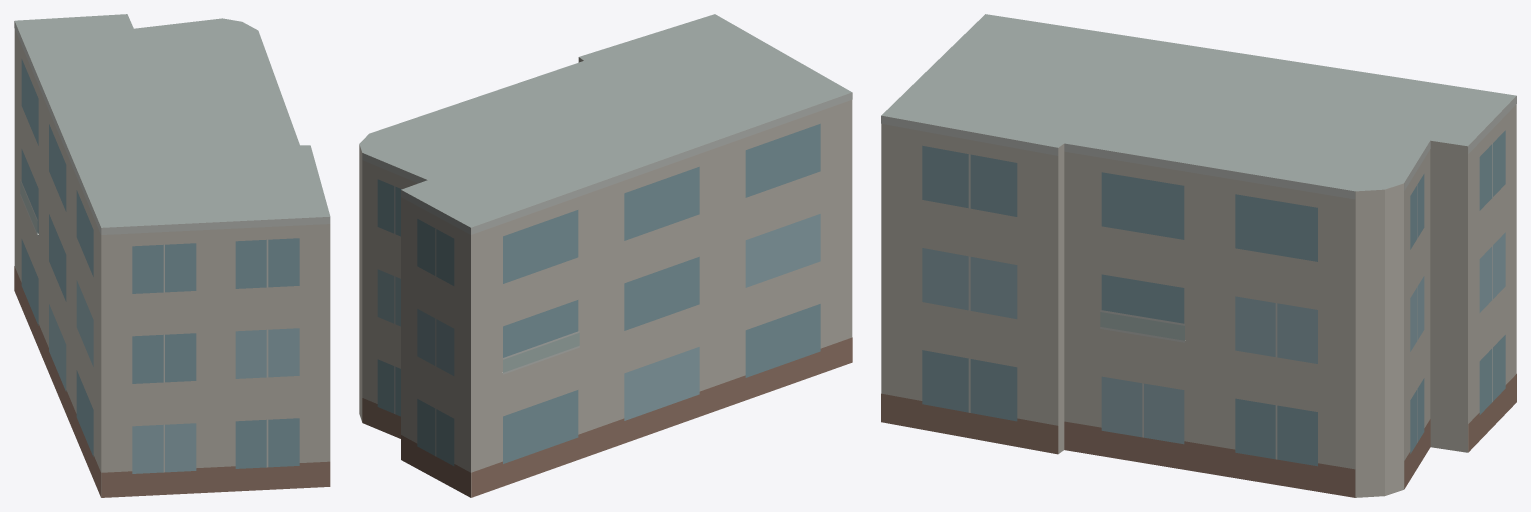
Rendered from survey-upis-32674457.glb.
The picture shows the model from 3 angles, left to right: view 1: azimuth 30°, elevation 25°; view 2: azimuth 150°, elevation 25°; view 3: azimuth 270°, elevation 25°; orthographic projection. The views are drawn at different scales.
Parts seen in each view (by area): view 1: survey-upis-32674457.tmp; view 2: survey-upis-32674457.tmp; view 3: survey-upis-32674457.tmp.
Part boxes in pixels (box(x1,y1,x2,y2)): survey-upis-32674457.tmp: box(14, 14, 330, 497); survey-upis-32674457.tmp: box(359, 14, 852, 497); survey-upis-32674457.tmp: box(881, 14, 1516, 497).
Size of the model in its own units: 11.3 by 9.1 by 17.11.
